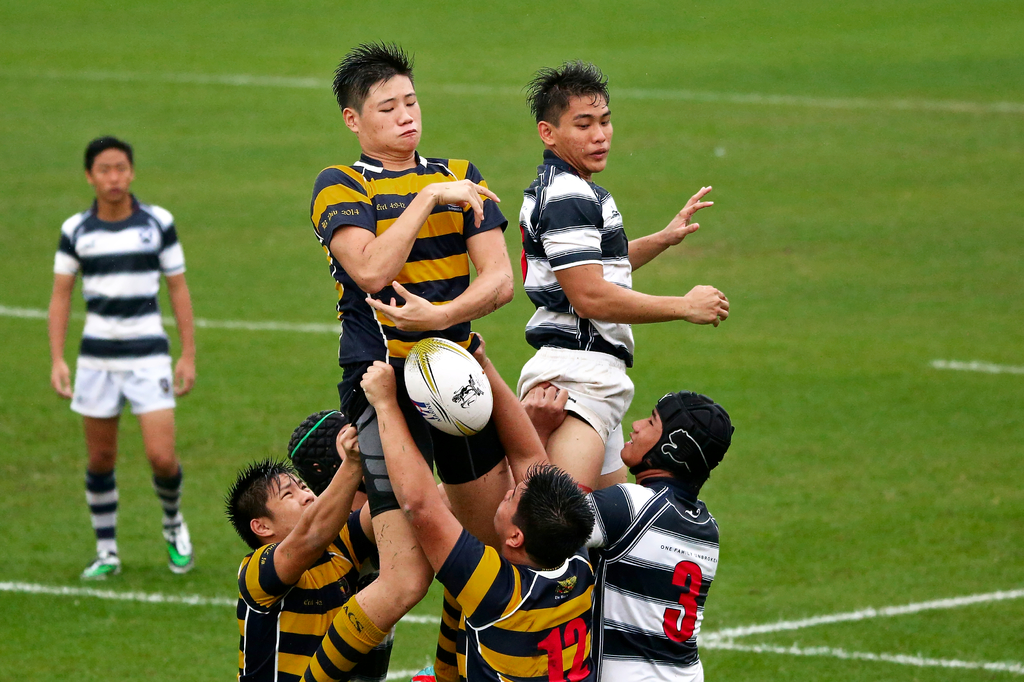Person: (48, 37, 735, 681)
